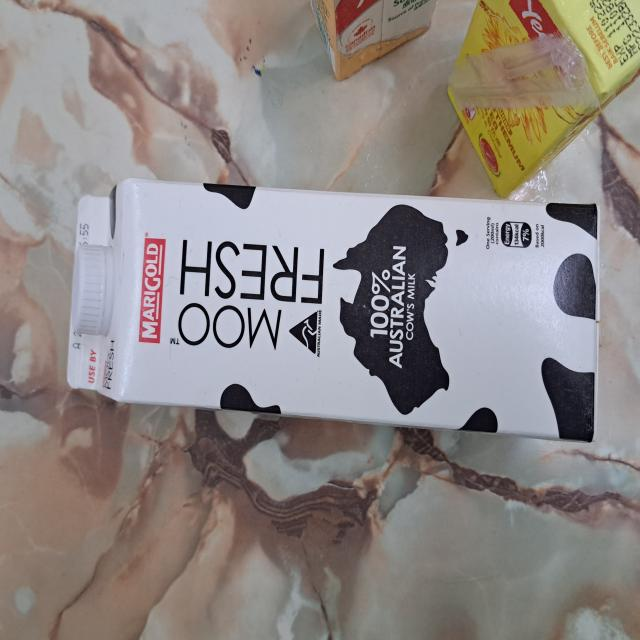drink carton: (65, 176, 601, 442), (443, 0, 639, 198), (308, 0, 436, 82)
plastic bottle cap: (73, 242, 115, 336)
